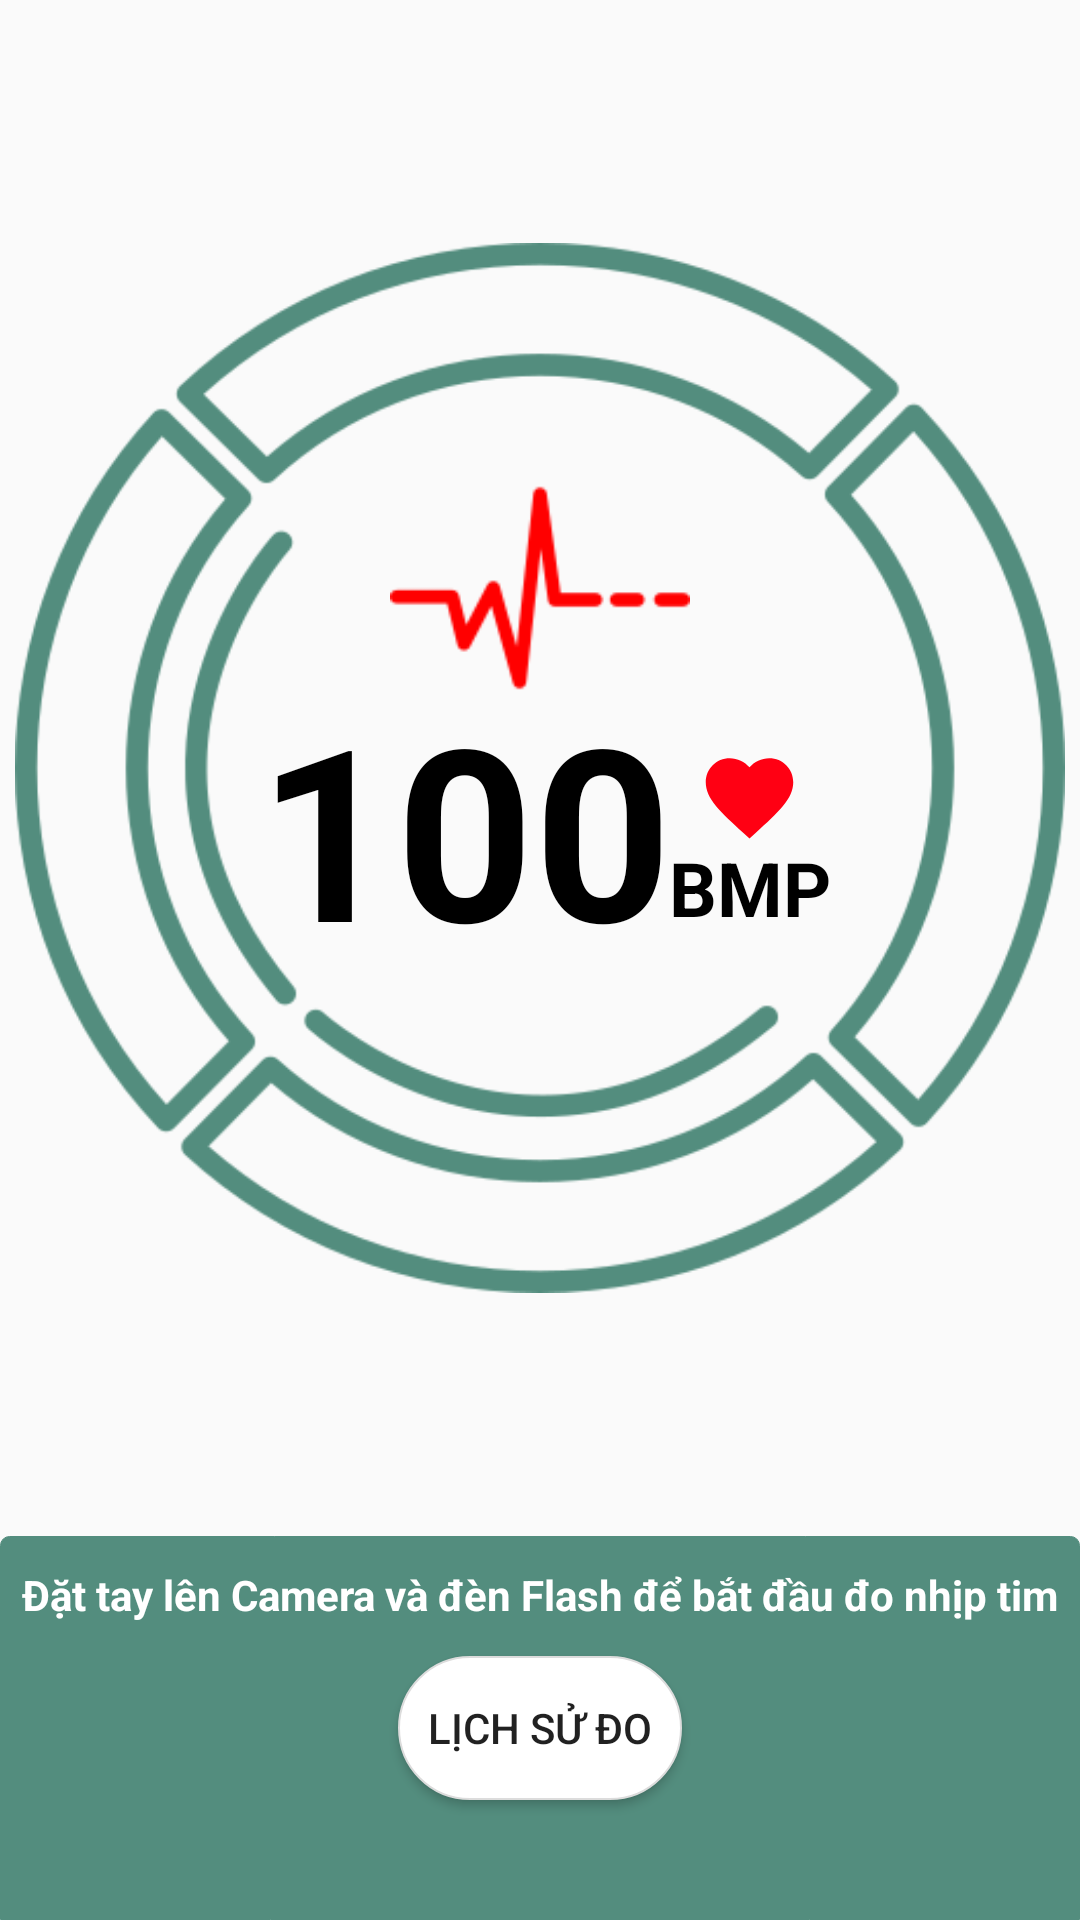

Icon bounding boxes for this 1080w x 1920h phone screenshot, format (x1, y1, x2, y2):
favorite: (705, 758, 794, 839)
heartbeat: (390, 486, 690, 690)
